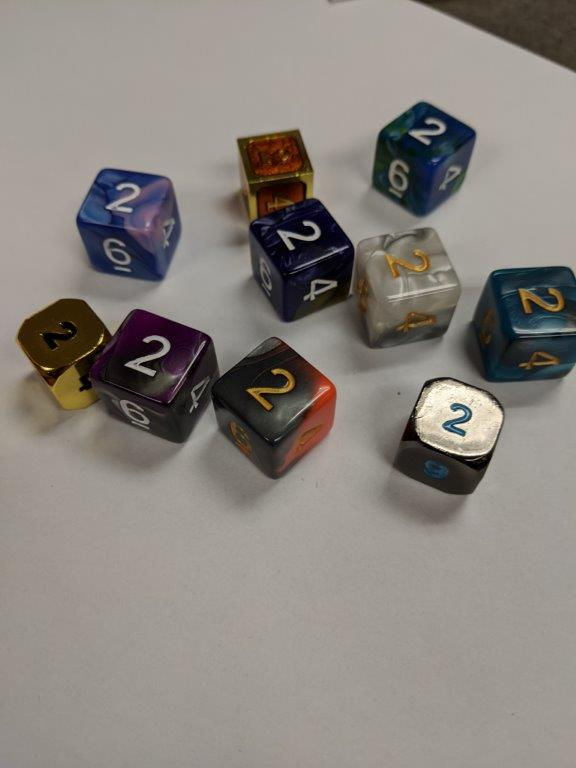d6-2: (88, 307, 218, 448), (212, 333, 334, 479), (392, 374, 506, 499), (356, 224, 461, 349), (249, 197, 352, 322), (369, 98, 475, 214), (470, 266, 576, 382), (78, 167, 182, 284), (16, 295, 113, 411), (233, 127, 316, 207)
